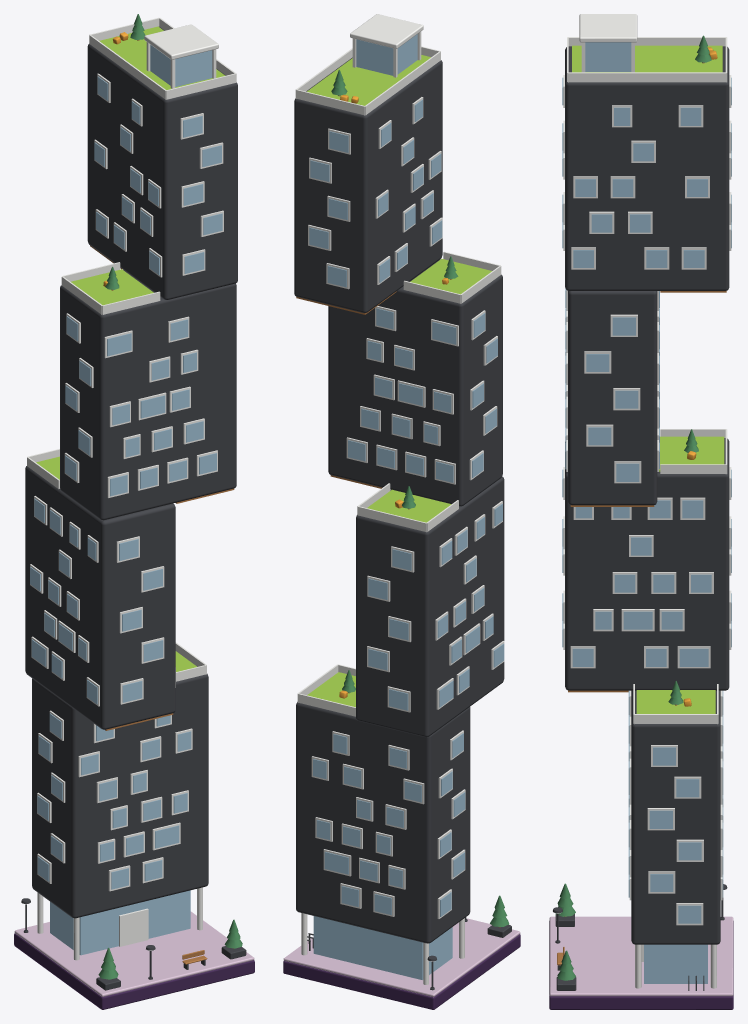
File: modern_building_4_3Level_Demo.glb
3 renders of one model, left to right at view 1: azimuth 30°, elevation 25°; view 2: azimuth 150°, elevation 25°; view 3: azimuth 270°, elevation 25°, orthographic. The views are drawn at different scales.
Visible parts, largest first — view 1: MB4_3_Graph3, MB4_3_Glass3, MB4_3_White3, MB4_3_Paving, MB4_3_Grass, MB4_3_Base, MB4_3_Pine, MB4_3_Oak; view 2: MB4_3_Graph3, MB4_3_Glass3, MB4_3_White3, MB4_3_Grass, MB4_3_Paving, MB4_3_Base, MB4_3_Pine; view 3: MB4_3_Graph3, MB4_3_Glass3, MB4_3_White3, MB4_3_Paving, MB4_3_Grass, MB4_3_Base, MB4_3_Pine, MB4_3_Oak.
Boxes of the visible parts, bbox=[...] form: MB4_3_Graph3: bbox=[21, 26, 246, 990]; MB4_3_Glass3: bbox=[30, 44, 222, 955]; MB4_3_White3: bbox=[27, 17, 236, 960]; MB4_3_Paving: bbox=[14, 911, 254, 996]; MB4_3_Grass: bbox=[36, 26, 225, 671]; MB4_3_Base: bbox=[14, 933, 254, 1009]; MB4_3_Pine: bbox=[98, 14, 242, 979]; MB4_3_Oak: bbox=[90, 40, 234, 964]; MB4_3_Graph3: bbox=[294, 57, 511, 990]; MB4_3_Glass3: bbox=[309, 34, 504, 979]; MB4_3_White3: bbox=[295, 14, 504, 984]; MB4_3_Grass: bbox=[307, 55, 491, 707]; MB4_3_Paving: bbox=[283, 918, 520, 997]; MB4_3_Base: bbox=[283, 934, 520, 1009]; MB4_3_Pine: bbox=[331, 69, 509, 926]; MB4_3_Graph3: bbox=[553, 46, 729, 990]; MB4_3_Glass3: bbox=[562, 42, 731, 983]; MB4_3_White3: bbox=[563, 14, 731, 988]; MB4_3_Paving: bbox=[549, 916, 733, 996]; MB4_3_Grass: bbox=[572, 45, 724, 713]; MB4_3_Base: bbox=[549, 921, 733, 1009]; MB4_3_Pine: bbox=[555, 35, 711, 980]; MB4_3_Oak: bbox=[557, 62, 726, 965].
Size of the model in its own units: 3.2 by 18.4 by 3.2.
